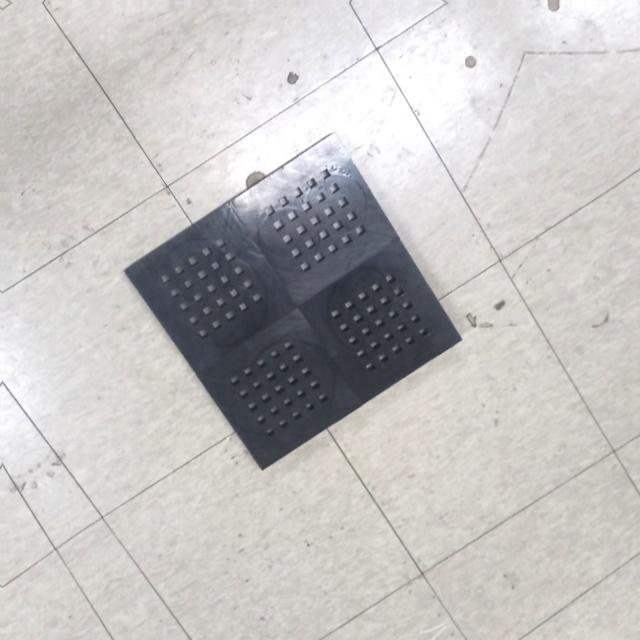pallet: (112, 120, 475, 482)
